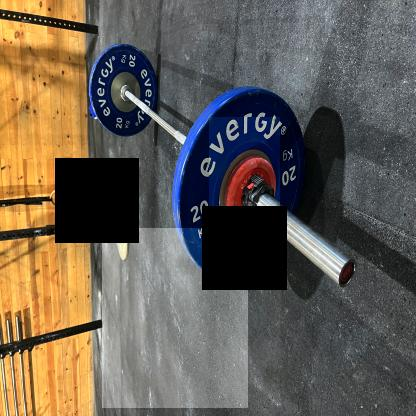barbell: (103, 230, 249, 410), (210, 119, 281, 213)
